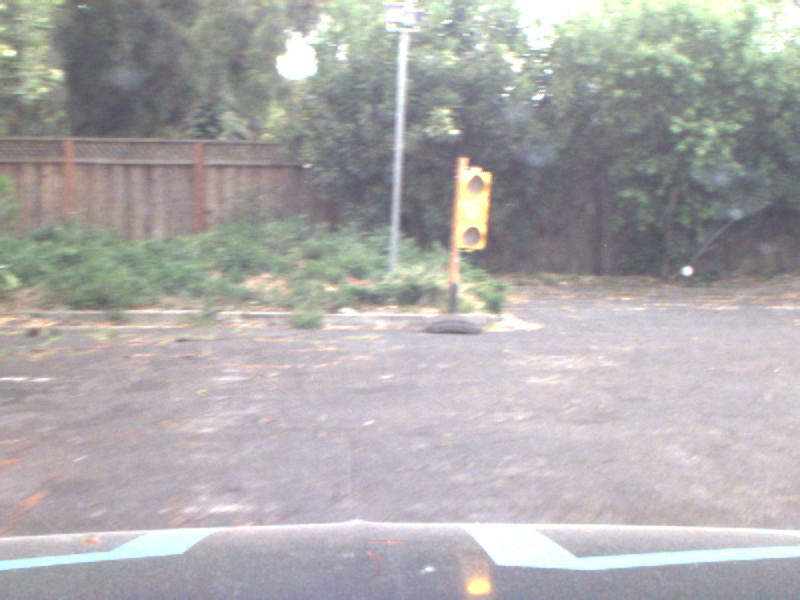Yellow: (455, 168, 490, 254)
